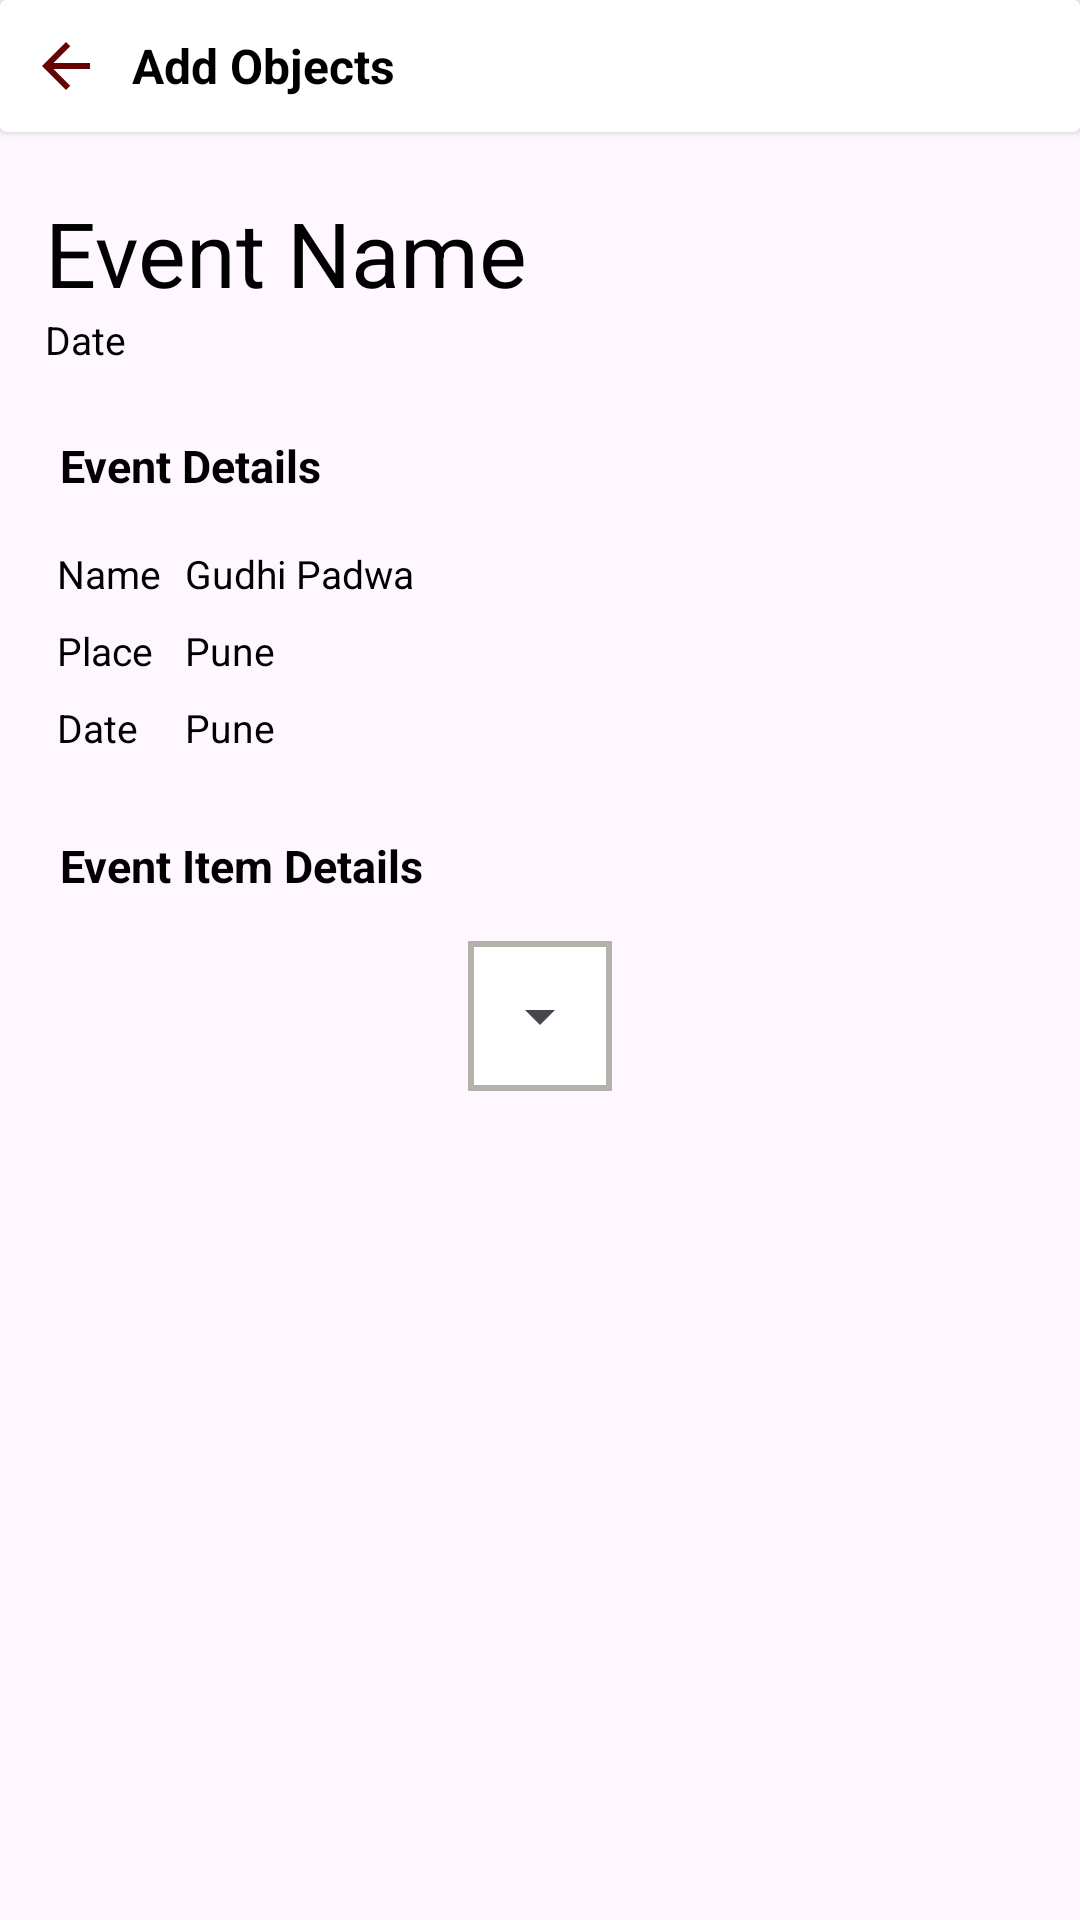

Named icons in this screenshot (1080×1920) and their centers, point (x, y):
Back: point (66, 66)
